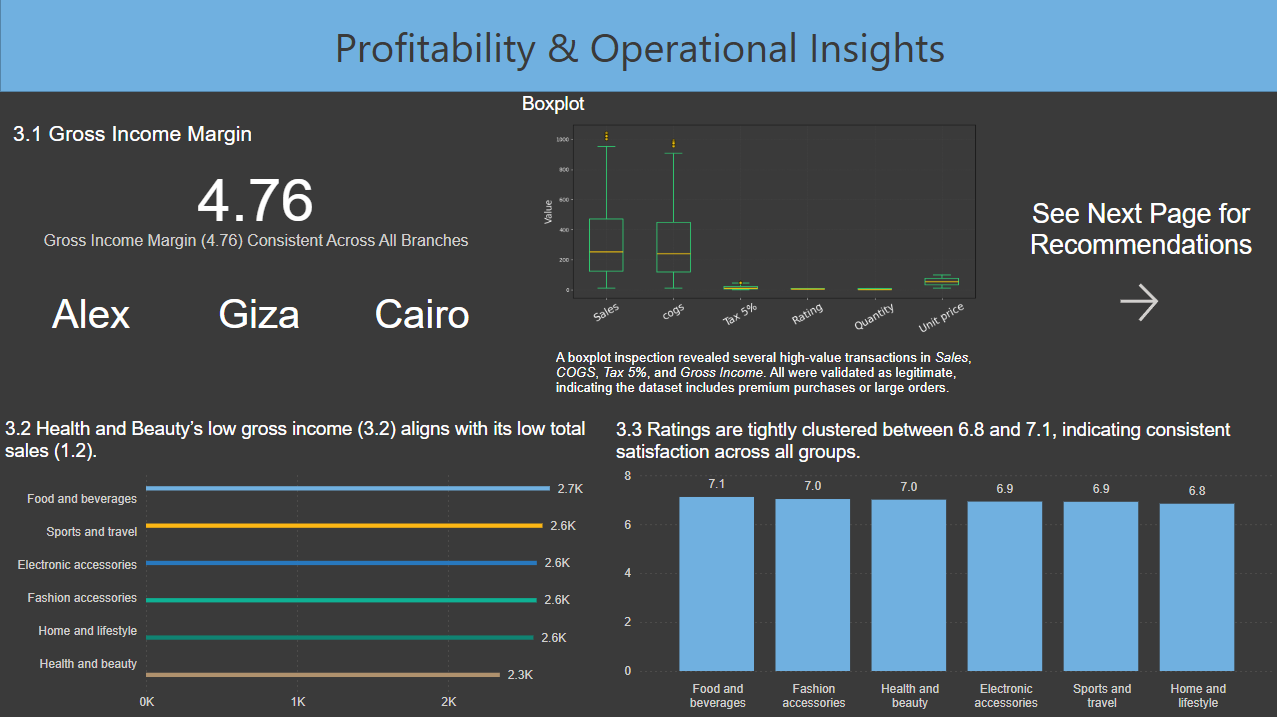

The dashboard page shown, as its layout file describes it:
{"tool":"powerbi","page":{"name":"Page 3","canvas":[1280,720],"ordinal":2},"visuals":[{"type":"card","title":"3.1 Gross Income Margin","fields":{"Values":["Avg(branch_data.gross_income_margin)"]},"box":[7.8,124.4,496.7,137.8],"z":3000},{"type":"card","fields":{"Values":["Min(branch_data.Branch)"]},"box":[21.1,280,140,66.7],"z":4000},{"type":"card","fields":{"Values":["Min(branch_data.Branch)"]},"box":[190,280,137.8,66.7],"z":5000},{"type":"card","fields":{"Values":["Min(branch_data.Branch)"]},"box":[340,280,164.4,66.7],"z":6000},{"type":"clusteredBarChart","title":"3.2 Health and Beauty’s low gross income (3.2) aligns with its low total sales (1.2).","fields":{"Category":["SuperMarket Analysis.Product line"],"Y":["Sum(SuperMarket Analysis.gross income)"],"Series":["SuperMarket Analysis.Product line"]},"box":[0,420.5,611,299.7],"z":7000},{"type":"clusteredColumnChart","title":"3.3 Ratings are tightly clustered between 6.8 and 7.1, indicating consistent satisfaction across all groups.","fields":{"Category":["SuperMarket Analysis.Product line"],"Y":["Avg(SuperMarket Analysis.Rating)"]},"box":[610.9,420.9,669.1,299.1],"z":9000},{"type":"pythonVisual","title":"Boxplot","fields":{"Values":["SuperMarket Analysis.Sales","SuperMarket Analysis.cogs","SuperMarket Analysis.Tax 5%","SuperMarket Analysis.Rating","SuperMarket Analysis.Quantity","SuperMarket Analysis.Unit price"]},"box":[517.1,95.2,484.8,251.4],"z":10000},{"type":"textbox","box":[551.3,346.7,450.5,70.6],"z":11000},{"type":"shape","box":[0,0,1280,94.4],"z":12000},{"type":"textbox","box":[1020,195.5,241.9,84.7],"z":13000},{"type":"actionButton","box":[1113.7,280.2,54.4,48.4],"z":14000}]}

Visuals, with their boxes in screenshot pixels (x1, y1, x2, y2), scaled from the page's 1280x720 canvas onto the 1277x717 screenshot:
"3.1 Gross Income Margin" card: 8/124/503/261
card - Min(branch_data.Branch): 21/279/161/345
card - Min(branch_data.Branch): 190/279/327/345
card - Min(branch_data.Branch): 339/279/503/345
"3.2 Health and Beauty’s low gross income (3.2) aligns with its low total sales (1.2)." clusteredBarChart: 0/419/610/716
"3.3 Ratings are tightly clustered between 6.8 and 7.1, indicating consistent satisfaction across all groups." clusteredColumnChart: 609/419/1276/716
"Boxplot" pythonVisual: 516/95/1000/345
textbox: 550/345/999/416
shape: 0/0/1276/94
textbox: 1018/195/1259/279
actionButton: 1111/279/1165/327
